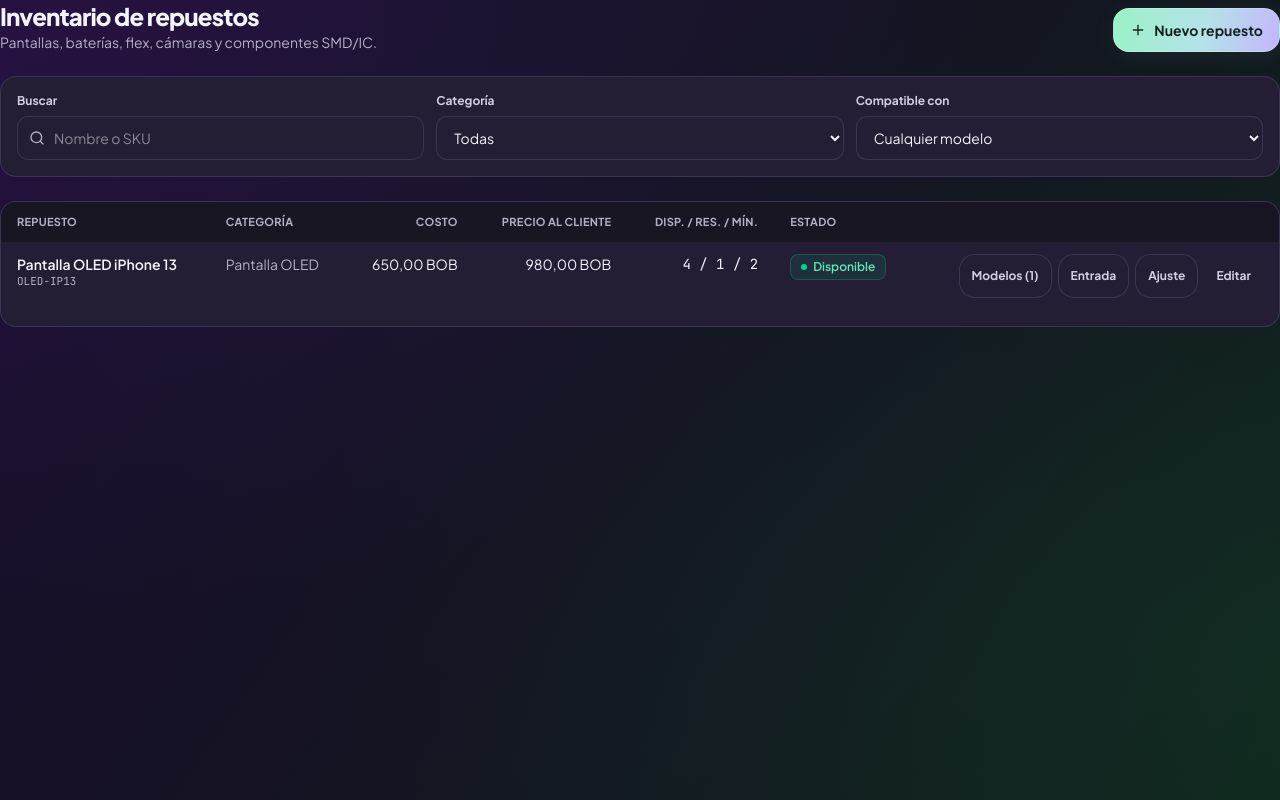
Scenario: InventoryPage (US-F11 / US-F12) › explains a duplicated SKU [006/RF-3.2]
Click the button "Nuevo repuesto" at (1197, 30), box [1113,8,1279,52]
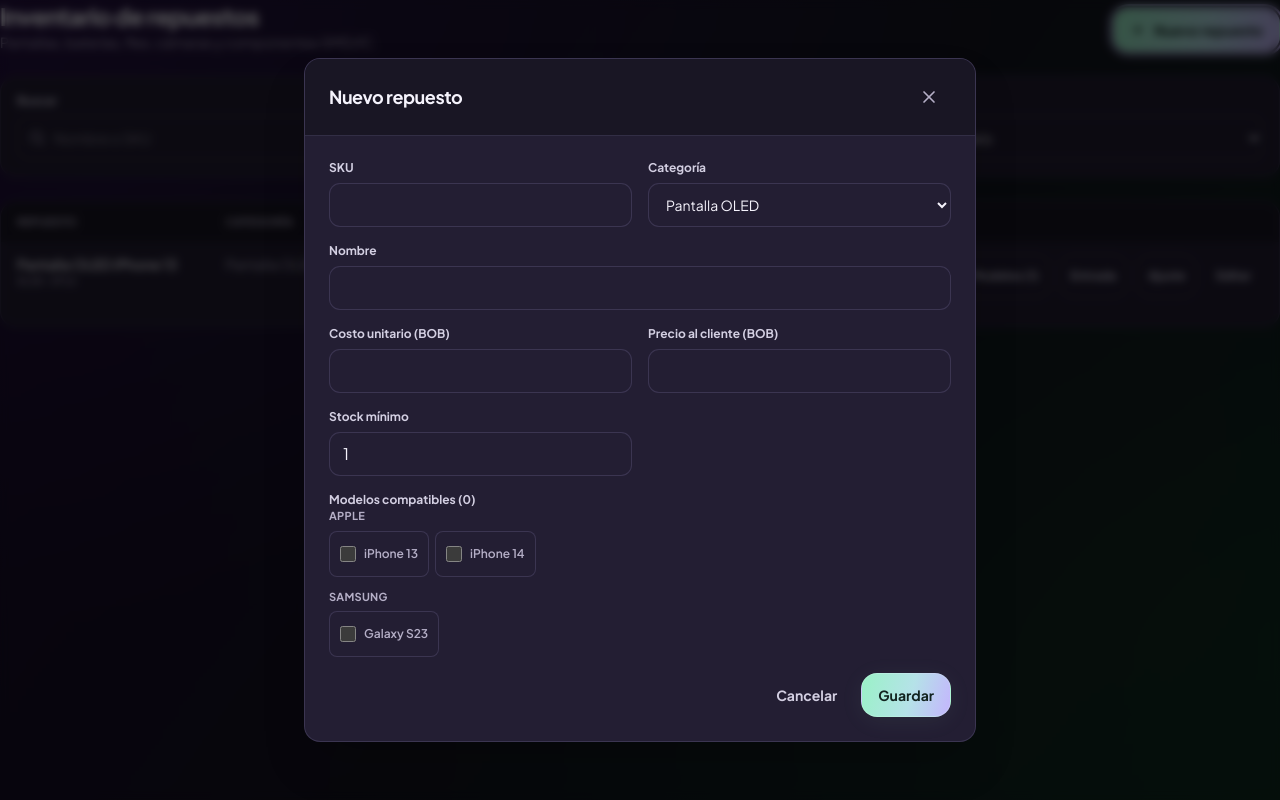
Type "OLED-IP13" into the field labelled "SKU" at (480, 205), box [329,183,632,227]
Type "Otra pantalla" into the field labelled "Nombre" at (640, 288), box [329,266,951,310]
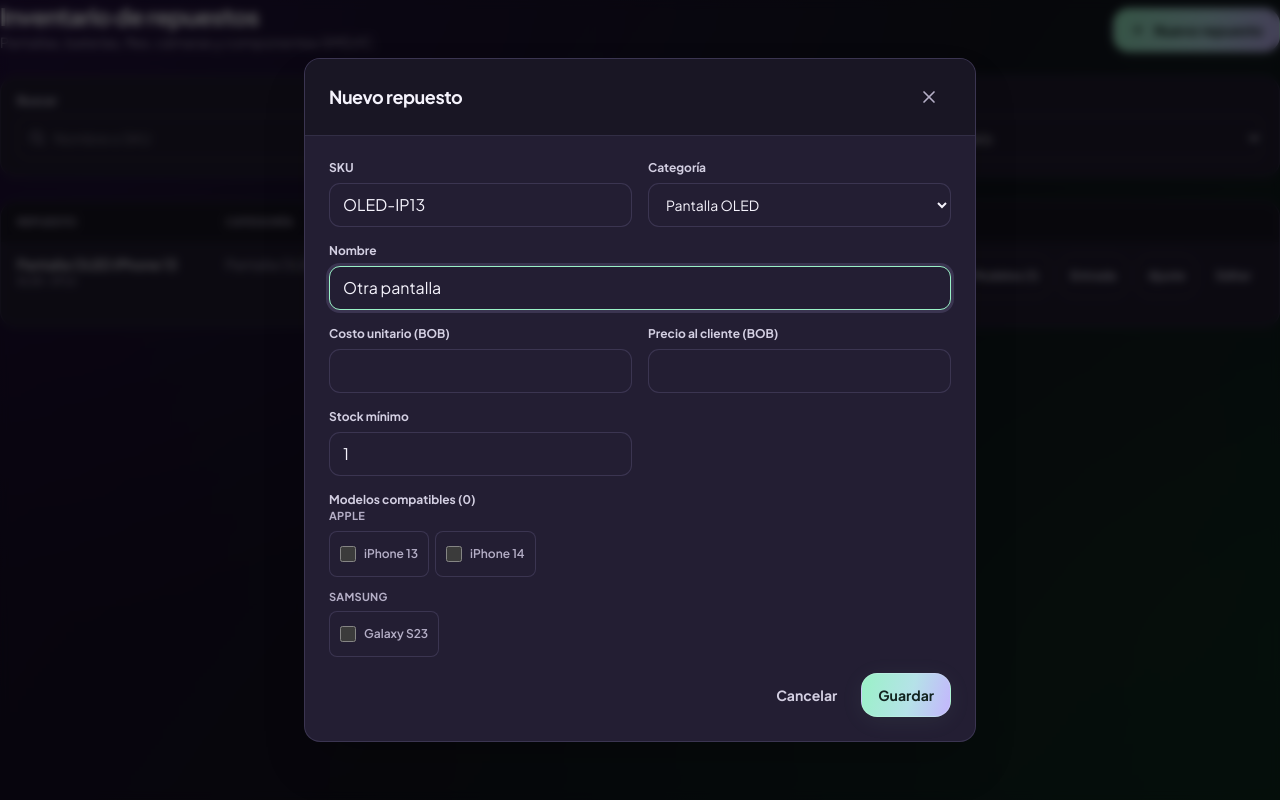
Type "1" into the field labelled "Costo unitario (BOB)" at (480, 371), box [329,349,632,393]
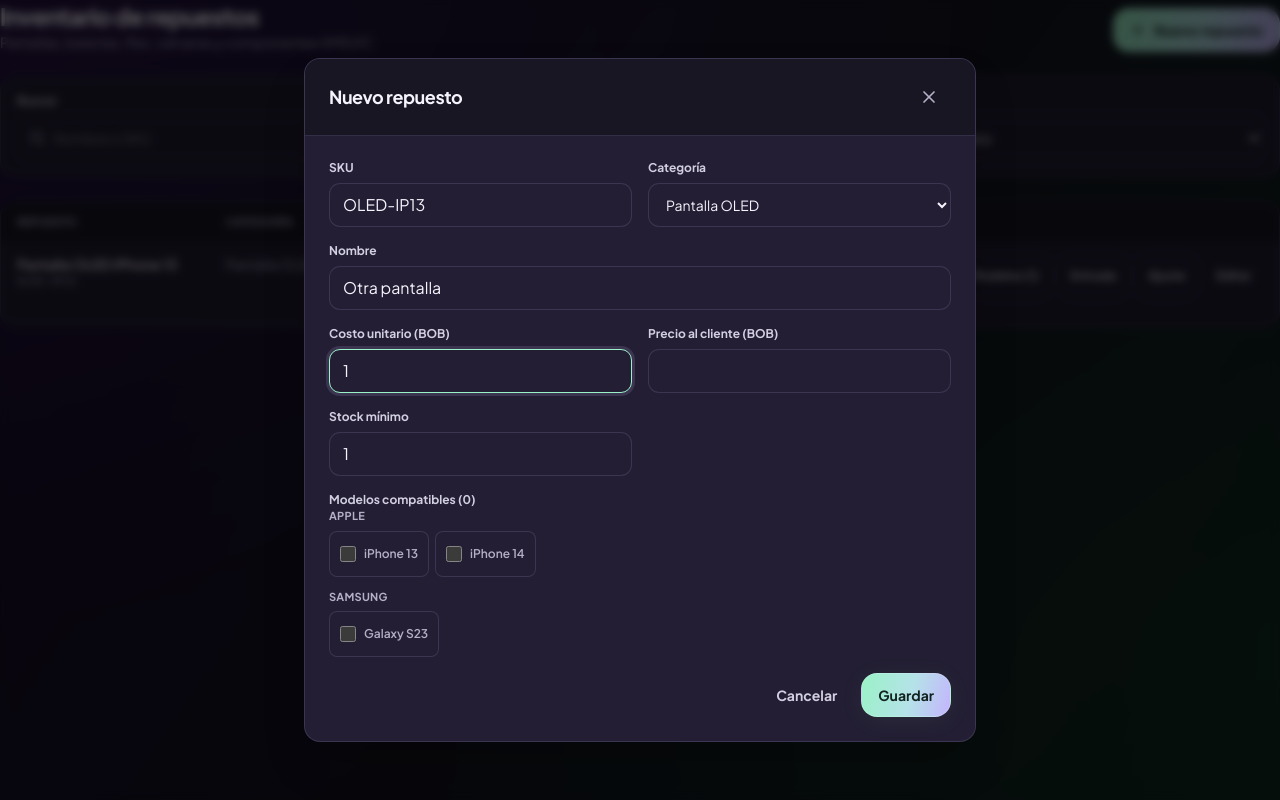
Type "2" into the field labelled "Precio al cliente (BOB)" at (800, 371), box [648,349,951,393]
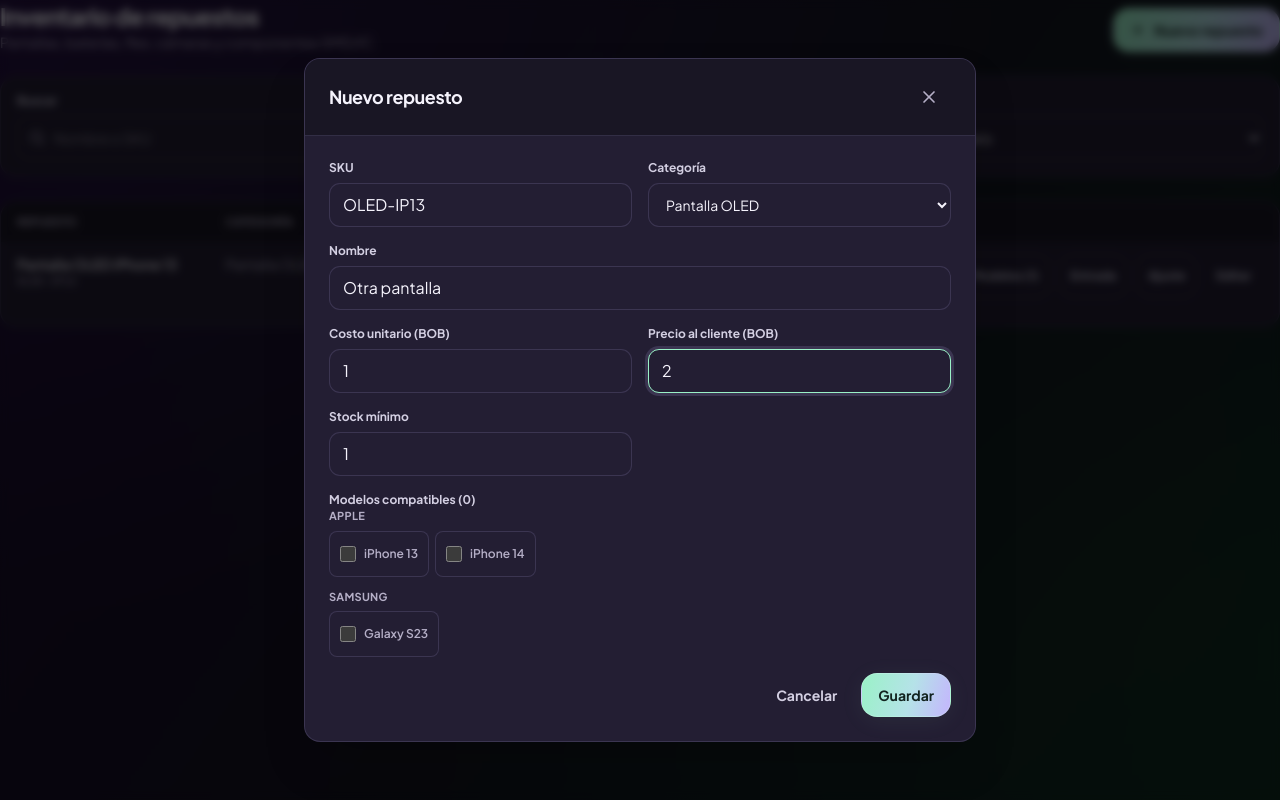
Click the button "Guardar" at (906, 695), box [861,673,951,717]
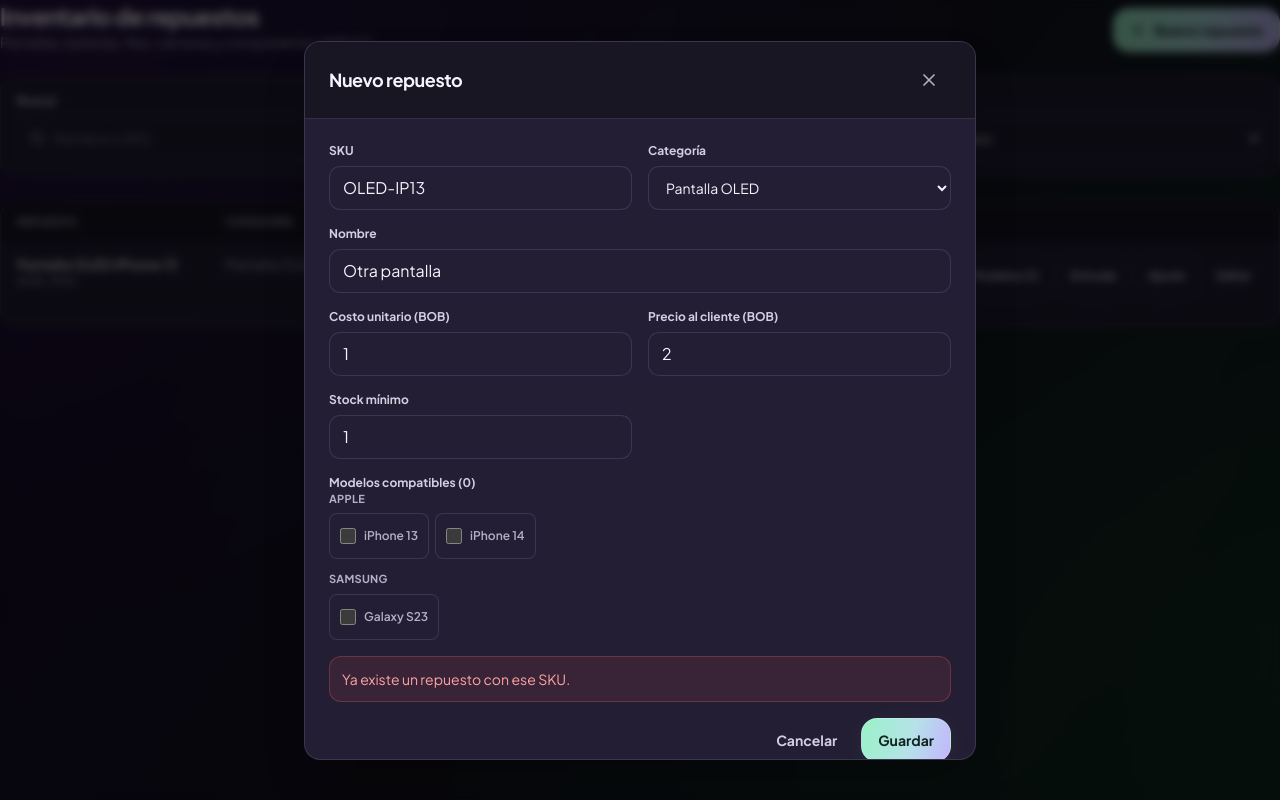
Check: the message reads "Ya existe un repuesto con ese SKU.", box [342,670,570,688]
Click the button "Cancelar" at (807, 740), box [760,718,853,762]
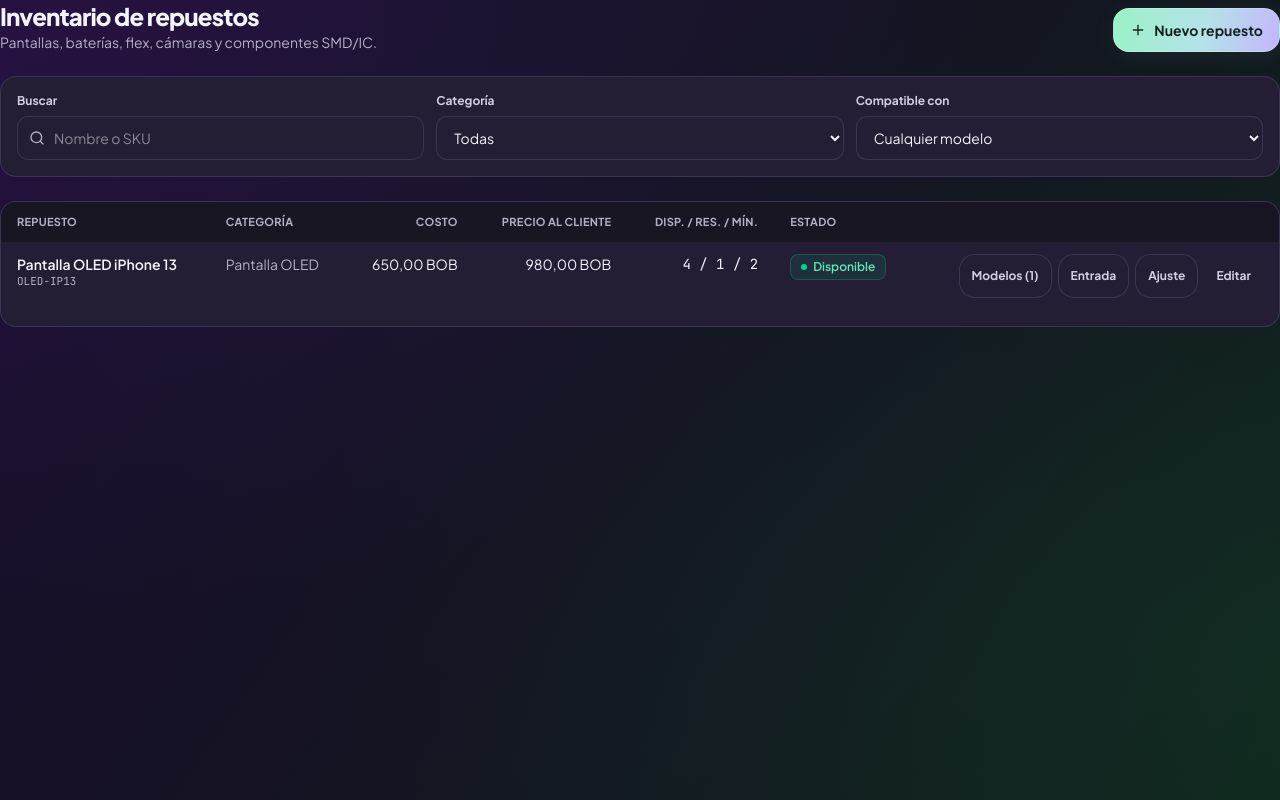
Check: the dialog is gone
